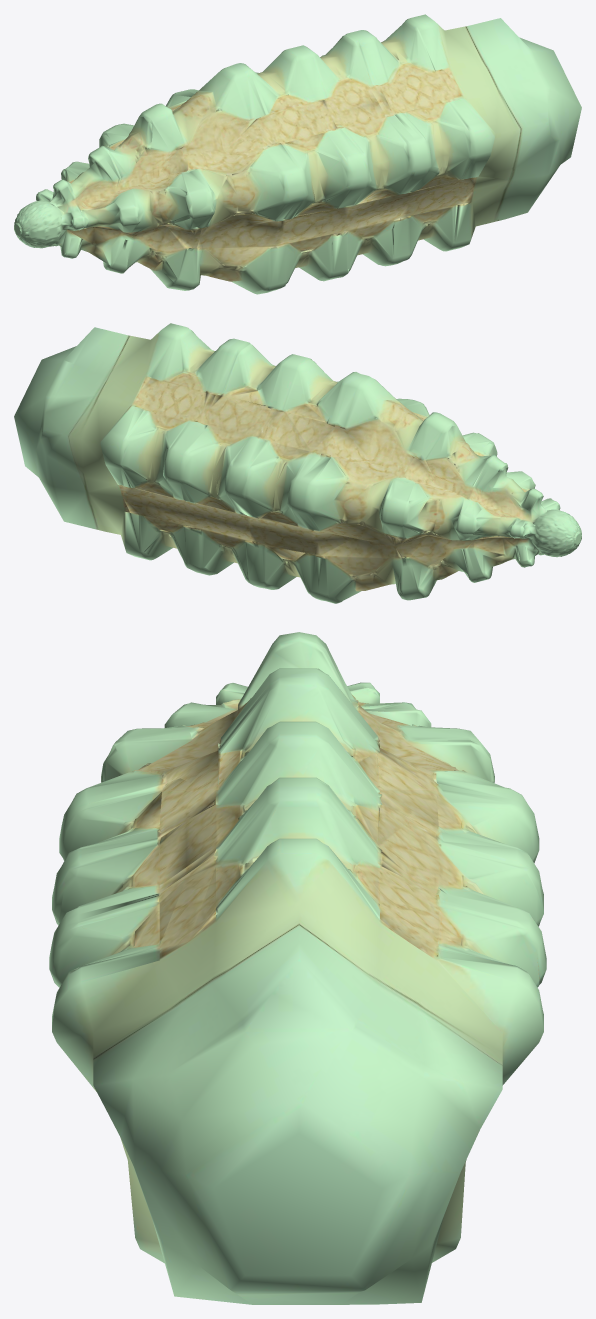
3 renders of one model, top to bottom at view 1: azimuth 30°, elevation 25°; view 2: azimuth 150°, elevation 25°; view 3: azimuth 270°, elevation 25°, orthographic. The views are drawn at different scales.
Parts seen in each view (by area): view 1: tripo_node_6c5c47a0-638e-4c18-9c38-260d96167a72; view 2: tripo_node_6c5c47a0-638e-4c18-9c38-260d96167a72; view 3: tripo_node_6c5c47a0-638e-4c18-9c38-260d96167a72.
Boxes of the visible parts, <box> form: tripo_node_6c5c47a0-638e-4c18-9c38-260d96167a72: <box>14,14,581,294</box>; tripo_node_6c5c47a0-638e-4c18-9c38-260d96167a72: <box>14,323,581,603</box>; tripo_node_6c5c47a0-638e-4c18-9c38-260d96167a72: <box>49,632,546,1304</box>.
Bounding box in the file's own units: 0.998 × 0.3652 × 0.3965.
1 material, 1 textured.
